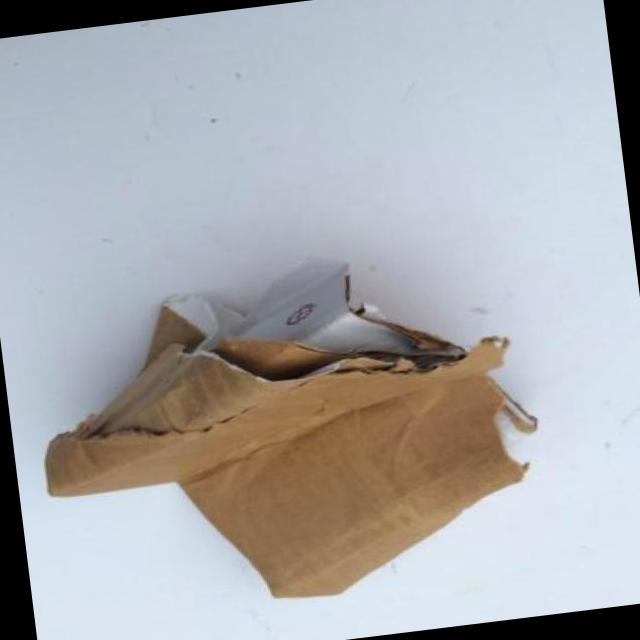cardboard paper: (48, 264, 536, 597)
